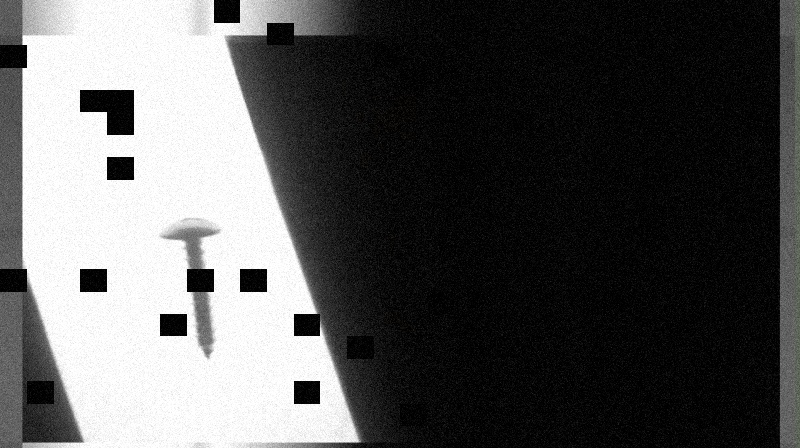S003: (155, 213, 225, 358)
